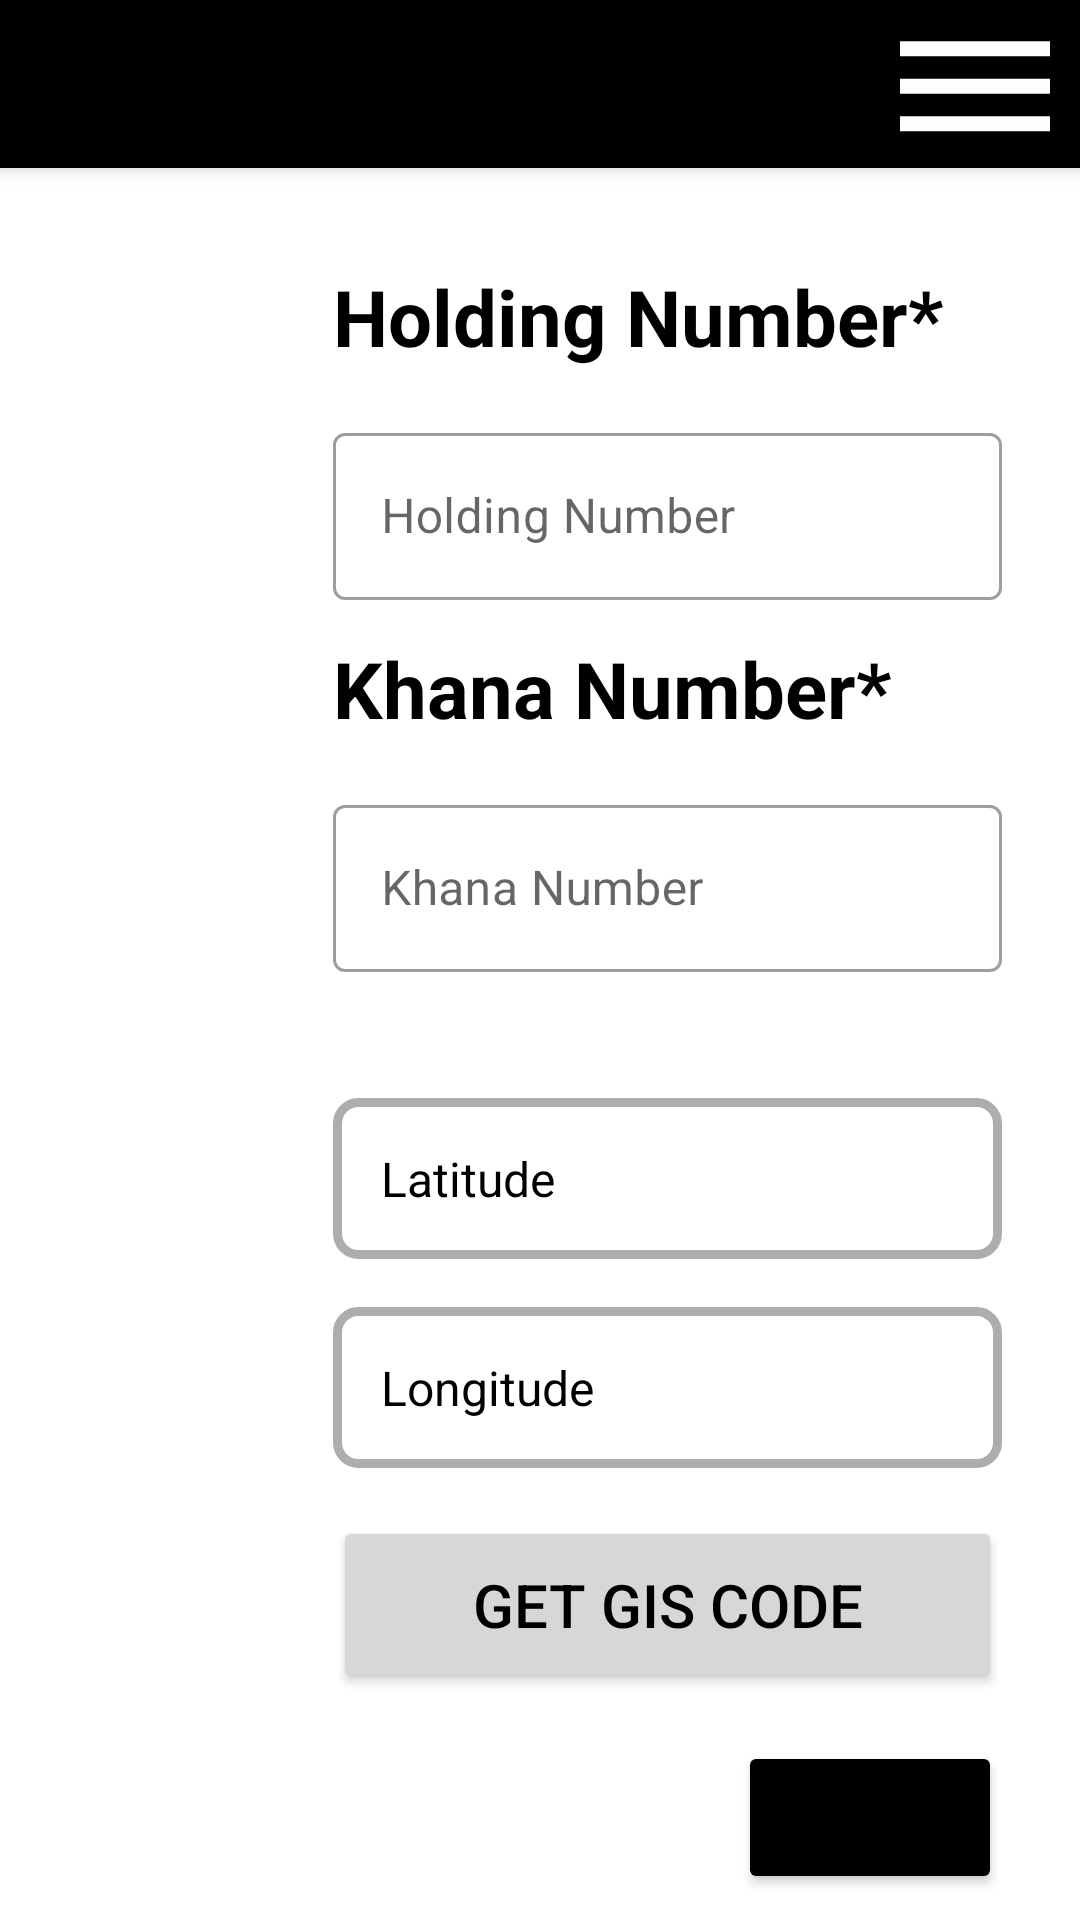

Point at icon controls on the screen. Image size 1080*1920, points as [x,y].
dehaze: [975,86]
